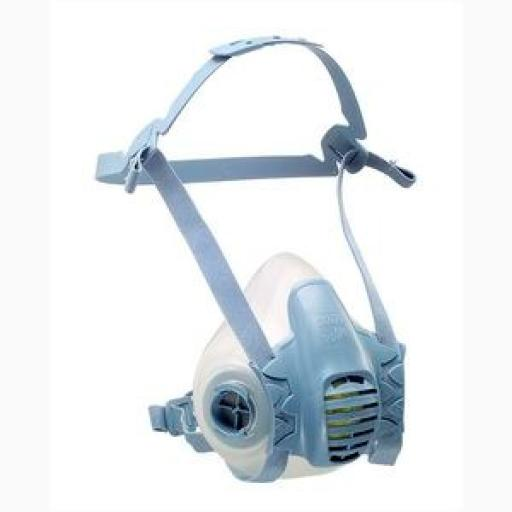mask: (145, 290, 435, 490)
